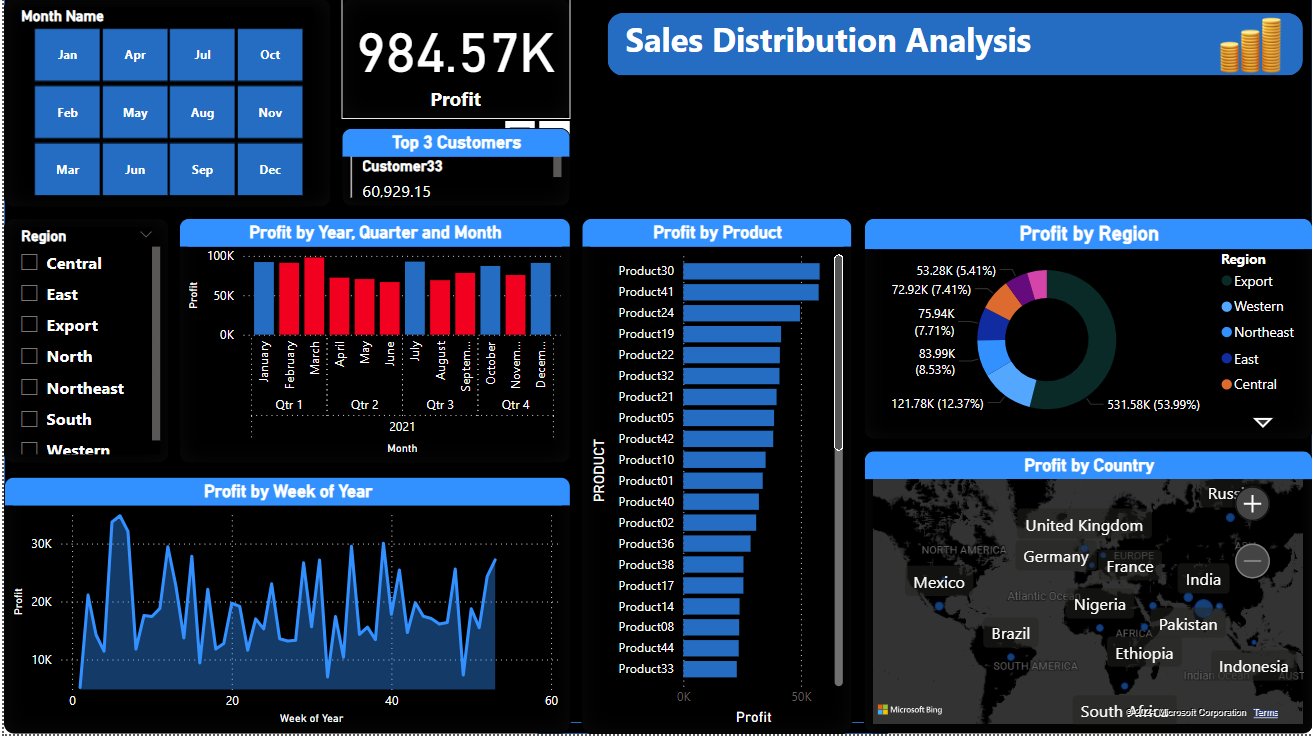

This screenshot's page, from the dashboard's own definition file:
{"tool":"powerbi","page":{"name":"Sales Distribution Analysis","canvas":[1280,720],"ordinal":0},"visuals":[{"type":"shape","box":[522.1,655.4,342.4,64.8],"z":0},{"type":"shape","box":[0,0,1280.3,709.2],"z":1000},{"type":"clusteredColumnChart","title":"Profit Vs Target Over Time","fields":{"Category":["Input Data.DATE.Variation.Date Hierarchy.Year","Input Data.DATE.Variation.Date Hierarchy.Quarter","Input Data.DATE.Variation.Date Hierarchy.Month","Input Data.DATE.Variation.Date Hierarchy.Day"],"Y":["#Measure.Profit"]},"box":[171.5,215.4,382.8,240.1],"z":2000},{"type":"card","fields":{"Values":["#Measure.Profit"]},"box":[330.7,0,223.7,118],"z":3000},{"type":"slicer","fields":{"Values":["Input Data.Month Name"]},"box":[0,0,319.7,204.5],"z":4000},{"type":"slicer","fields":{"Values":["Customer.Region"]},"box":[0,215.4,161.9,240.1],"z":5000},{"type":"areaChart","fields":{"Y":["#Measure.Profit"],"Category":["Input Data.Week of Year"]},"box":[0,467.9,554.4,251.1],"z":6000},{"type":"multiRowCard","title":"Top 3 Customers","fields":{"Values":["Customer.Customer Name","#Measure.Profit"]},"box":[330.7,127.6,223.7,76.8],"z":7000},{"type":"clusteredBarChart","title":"Profit by Product","fields":{"Category":["Input Data.PRODUCT"],"Y":["#Measure.Profit"]},"box":[565.4,215.4,264.8,505],"z":8000},{"type":"donutChart","fields":{"Y":["#Measure.Profit"],"Category":["Customer.Region"]},"box":[841.2,215.4,439.1,216.8],"z":9000},{"type":"map","fields":{"Category":["Customer.Country"],"Size":["#Measure.Profit"]},"box":[841.2,443.2,439.1,277.2],"z":10000},{"type":"shape","box":[590.6,14.7,679.9,61.1],"z":11000},{"type":"textbox","box":[602.9,13.5,426.8,89.3],"z":12000},{"type":"image","box":[1169,7.3,101.5,78.3],"z":13000}]}

Visuals, with their boxes in screenshot pixels (x1, y1, x2, y2), scaled from the page's 1280x720 canvas onto the 1312x736 screenshot:
shape: detection(535, 670, 886, 735)
shape: detection(0, 0, 1311, 725)
"Profit Vs Target Over Time" clusteredColumnChart: detection(176, 220, 568, 466)
card - #Measure.Profit: detection(339, 0, 568, 121)
slicer - Input Data.Month Name: detection(0, 0, 328, 209)
slicer - Customer.Region: detection(0, 220, 166, 466)
areaChart - #Measure.Profit x Input Data.Week of Year: detection(0, 478, 568, 735)
"Top 3 Customers" multiRowCard: detection(339, 130, 568, 209)
"Profit by Product" clusteredBarChart: detection(580, 220, 851, 735)
donutChart - #Measure.Profit x Customer.Region: detection(862, 220, 1311, 442)
map - Customer.Country x #Measure.Profit: detection(862, 453, 1311, 735)
shape: detection(605, 15, 1302, 77)
textbox: detection(618, 14, 1055, 105)
image: detection(1198, 7, 1302, 88)
